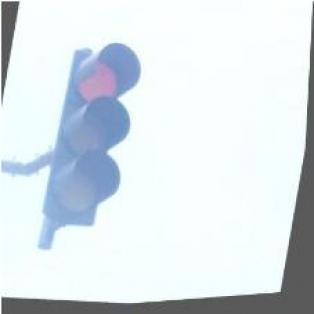Semaforo Rojo: (37, 35, 147, 234)
